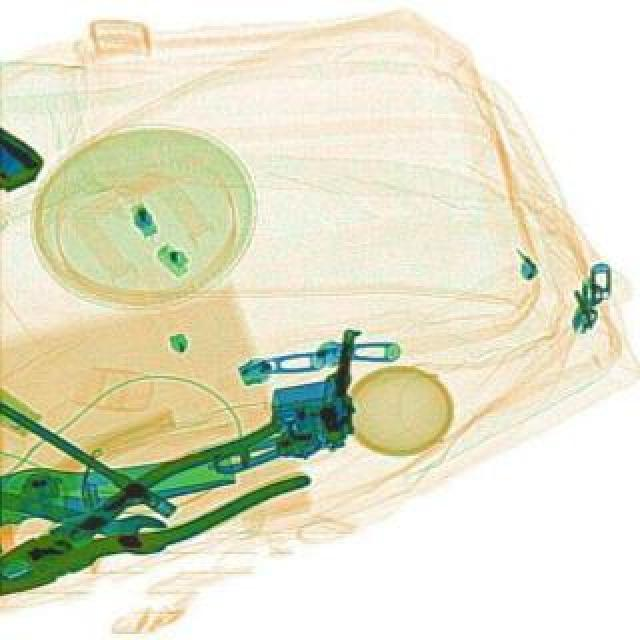gun: (210, 324, 358, 472)
scissors: (0, 480, 172, 560)
wrench: (0, 414, 312, 602)
